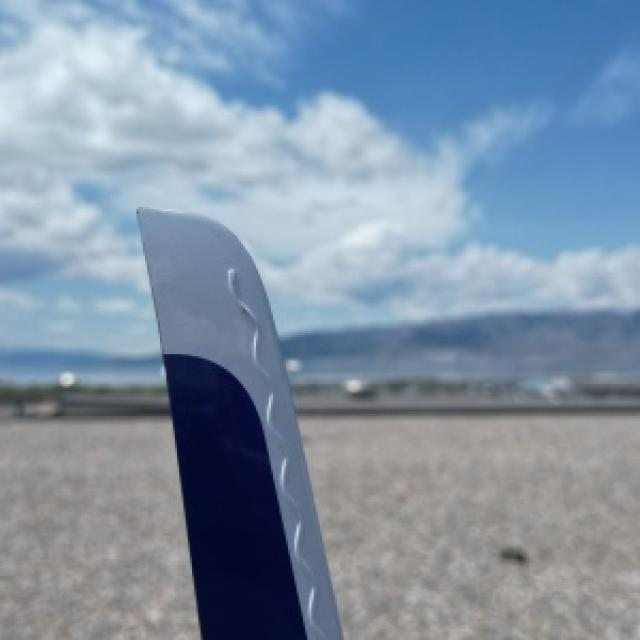healthy: (137, 207, 337, 638)
